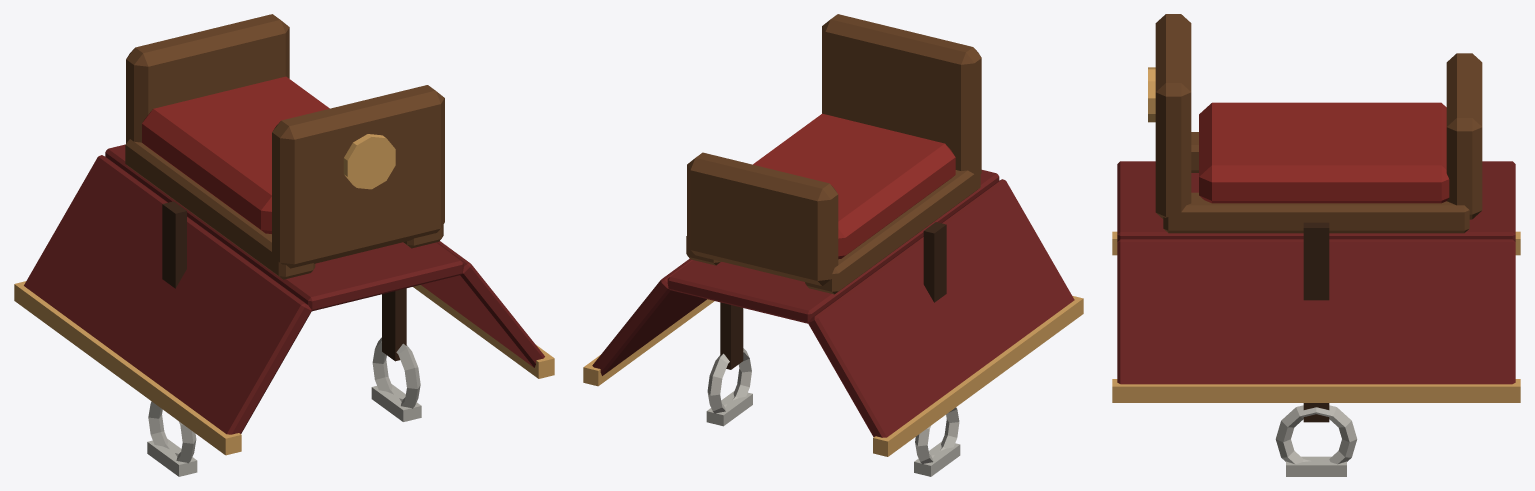
File: saddle.glb
3 renders of one model, left to right at view 1: azimuth 30°, elevation 25°; view 2: azimuth 150°, elevation 25°; view 3: azimuth 270°, elevation 25°, orthographic. The views are drawn at different scales.
Parts seen in each view (by area): view 1: saddle; view 2: saddle; view 3: saddle.
Part boxes in pixels (box(x1,y1,x2,y2)): saddle: box(14, 14, 554, 476); saddle: box(583, 14, 1083, 476); saddle: box(1112, 14, 1520, 476).
Bounding box in the file's own units: 0.7191 × 0.81 × 0.8.
